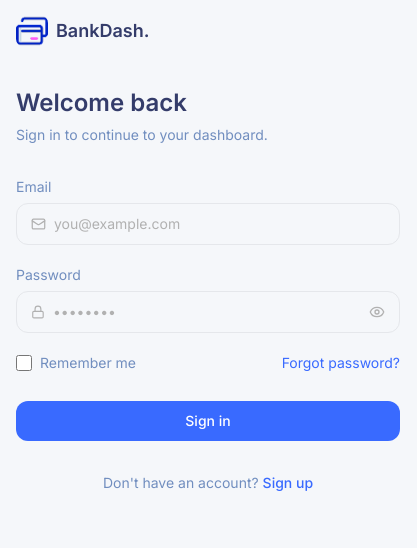
it: LoginForm › should clear the previous error when submitting again
Type "joao@example.com" into the field labelled "Email" at (220, 224), box [54,214,385,234]
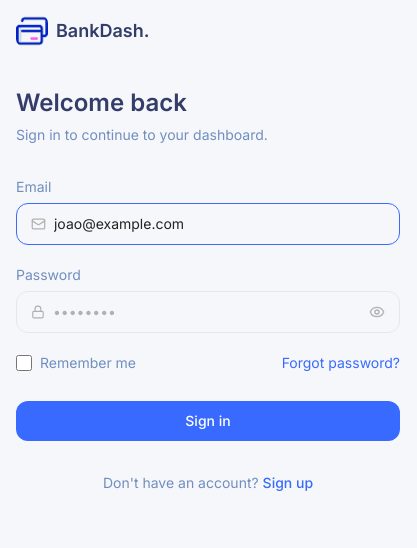
Type "wrong" into the password field labelled "Password" at (207, 312), box [53,302,361,322]
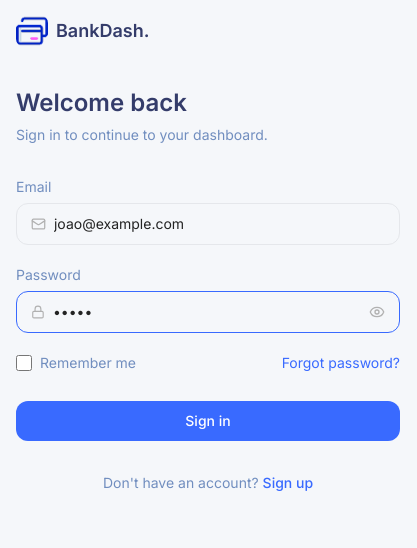
Click the button "Sign in" at (208, 421), box [16,401,400,441]
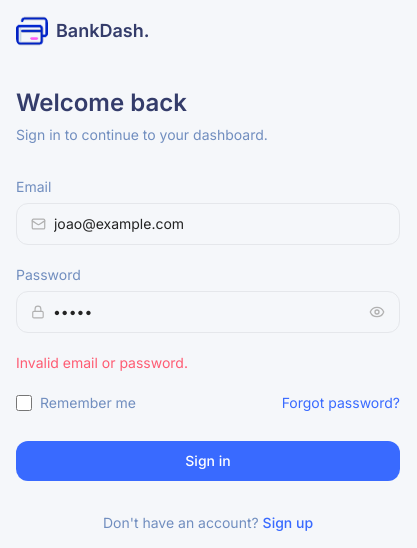
expect the text "Invalid email or password." is shown: met, box [16,354,188,371]
Click the button "Sign in" at (208, 461), box [16,441,400,481]
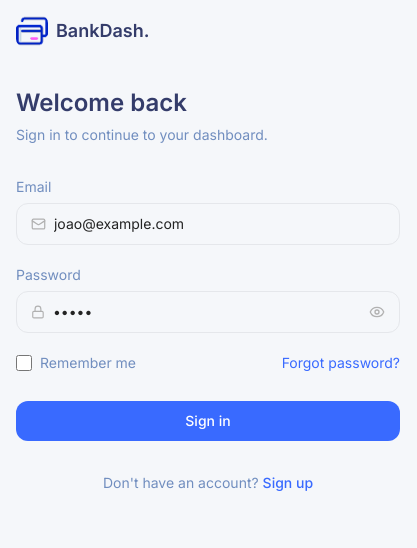
expect the text "Invalid email or password." is gone: met
